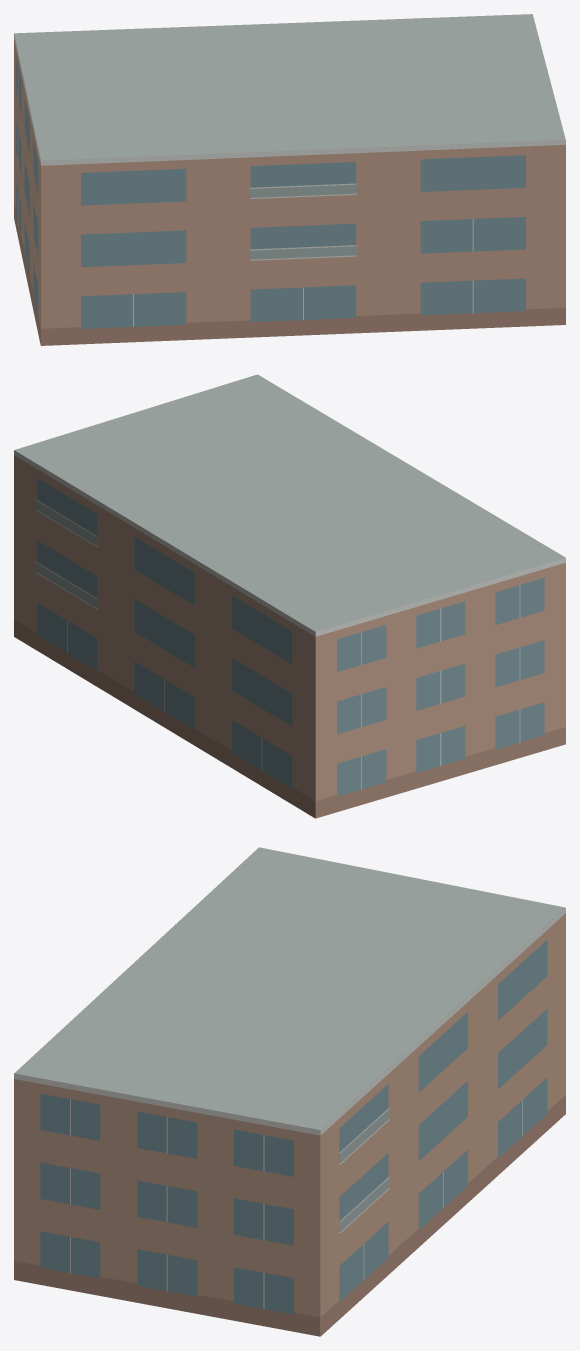
The model's file is survey-upis-32852730.glb.
3 renders of one model, top to bottom at view 1: azimuth 30°, elevation 25°; view 2: azimuth 150°, elevation 25°; view 3: azimuth 270°, elevation 25°, orthographic. The views are drawn at different scales.
Parts seen in each view (by area): view 1: survey-upis-32852730.tmp; view 2: survey-upis-32852730.tmp; view 3: survey-upis-32852730.tmp.
Part boxes in pixels (box(x1,y1,x2,y2)): survey-upis-32852730.tmp: box(14, 14, 565, 345); survey-upis-32852730.tmp: box(14, 374, 565, 818); survey-upis-32852730.tmp: box(14, 847, 565, 1336).
Bounding box in the file's own units: 26.89 × 9.15 × 22.17.
